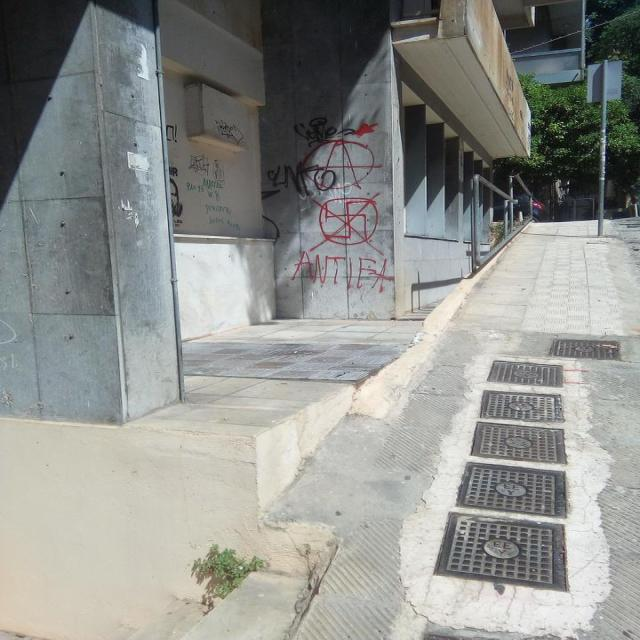nonspitting: (308, 193, 385, 256), (302, 138, 384, 188), (292, 252, 387, 292), (186, 180, 240, 229), (268, 161, 336, 194), (292, 118, 358, 148), (188, 154, 226, 181), (168, 166, 183, 227), (216, 120, 244, 145), (165, 122, 178, 142)
